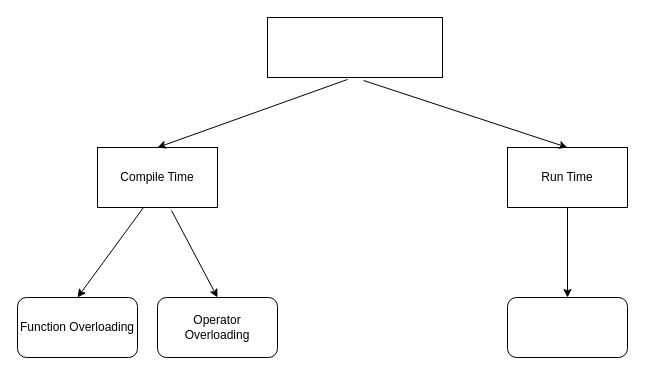
This 645x375 diagram has some shape labels left out. Each missing label, with the box of its shape:
Polymorphism: (266, 16, 442, 78)
Virtual Function: (506, 296, 628, 358)
